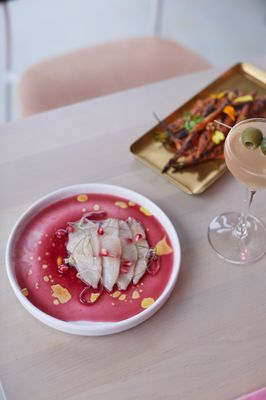sushi: (5, 182, 180, 337)
